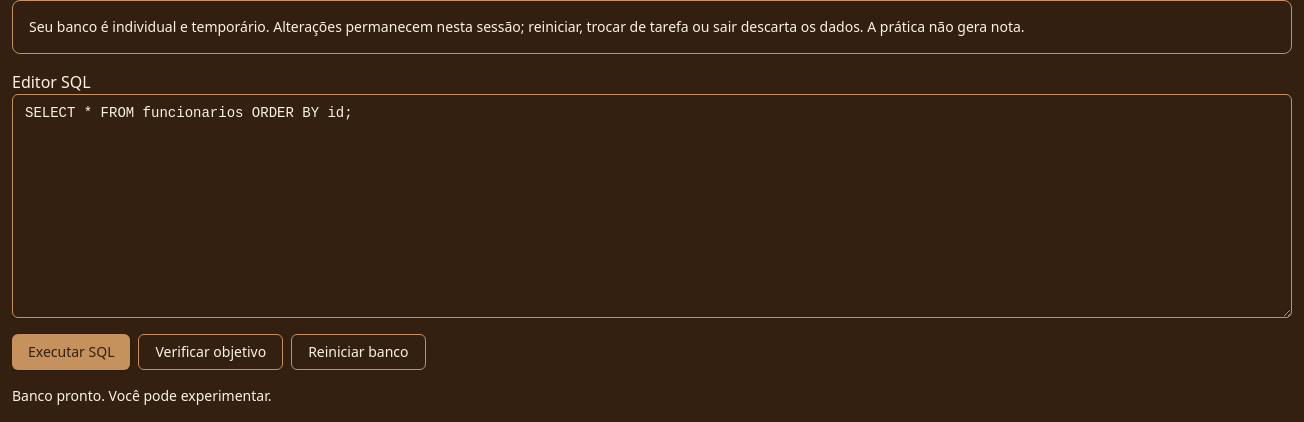
Test: Student practice controls › terminates a stalled query and requires a clean restart
The width and height of the screenshot is (1304, 422).
What coordinates should you click on to do the following:
click the button "Executar SQL"
I would click on:
 (71, 352)
Its box is 12,334 -> 130,370.
Wait 10000 ms
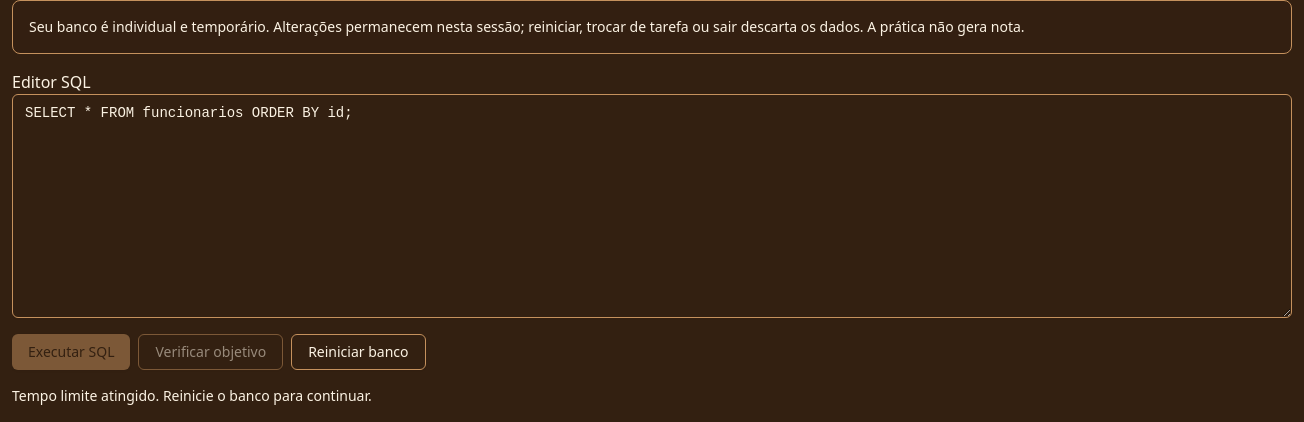
Expected: the message shows "Tempo limite", 12,386 -> 372,405
Expected: the button "Executar SQL" is disabled, 12,334 -> 130,370
